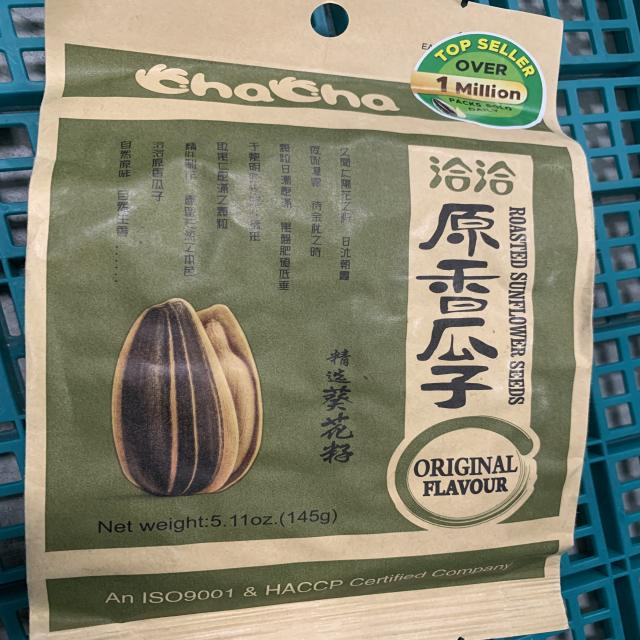object_name: (47, 6, 595, 640)
